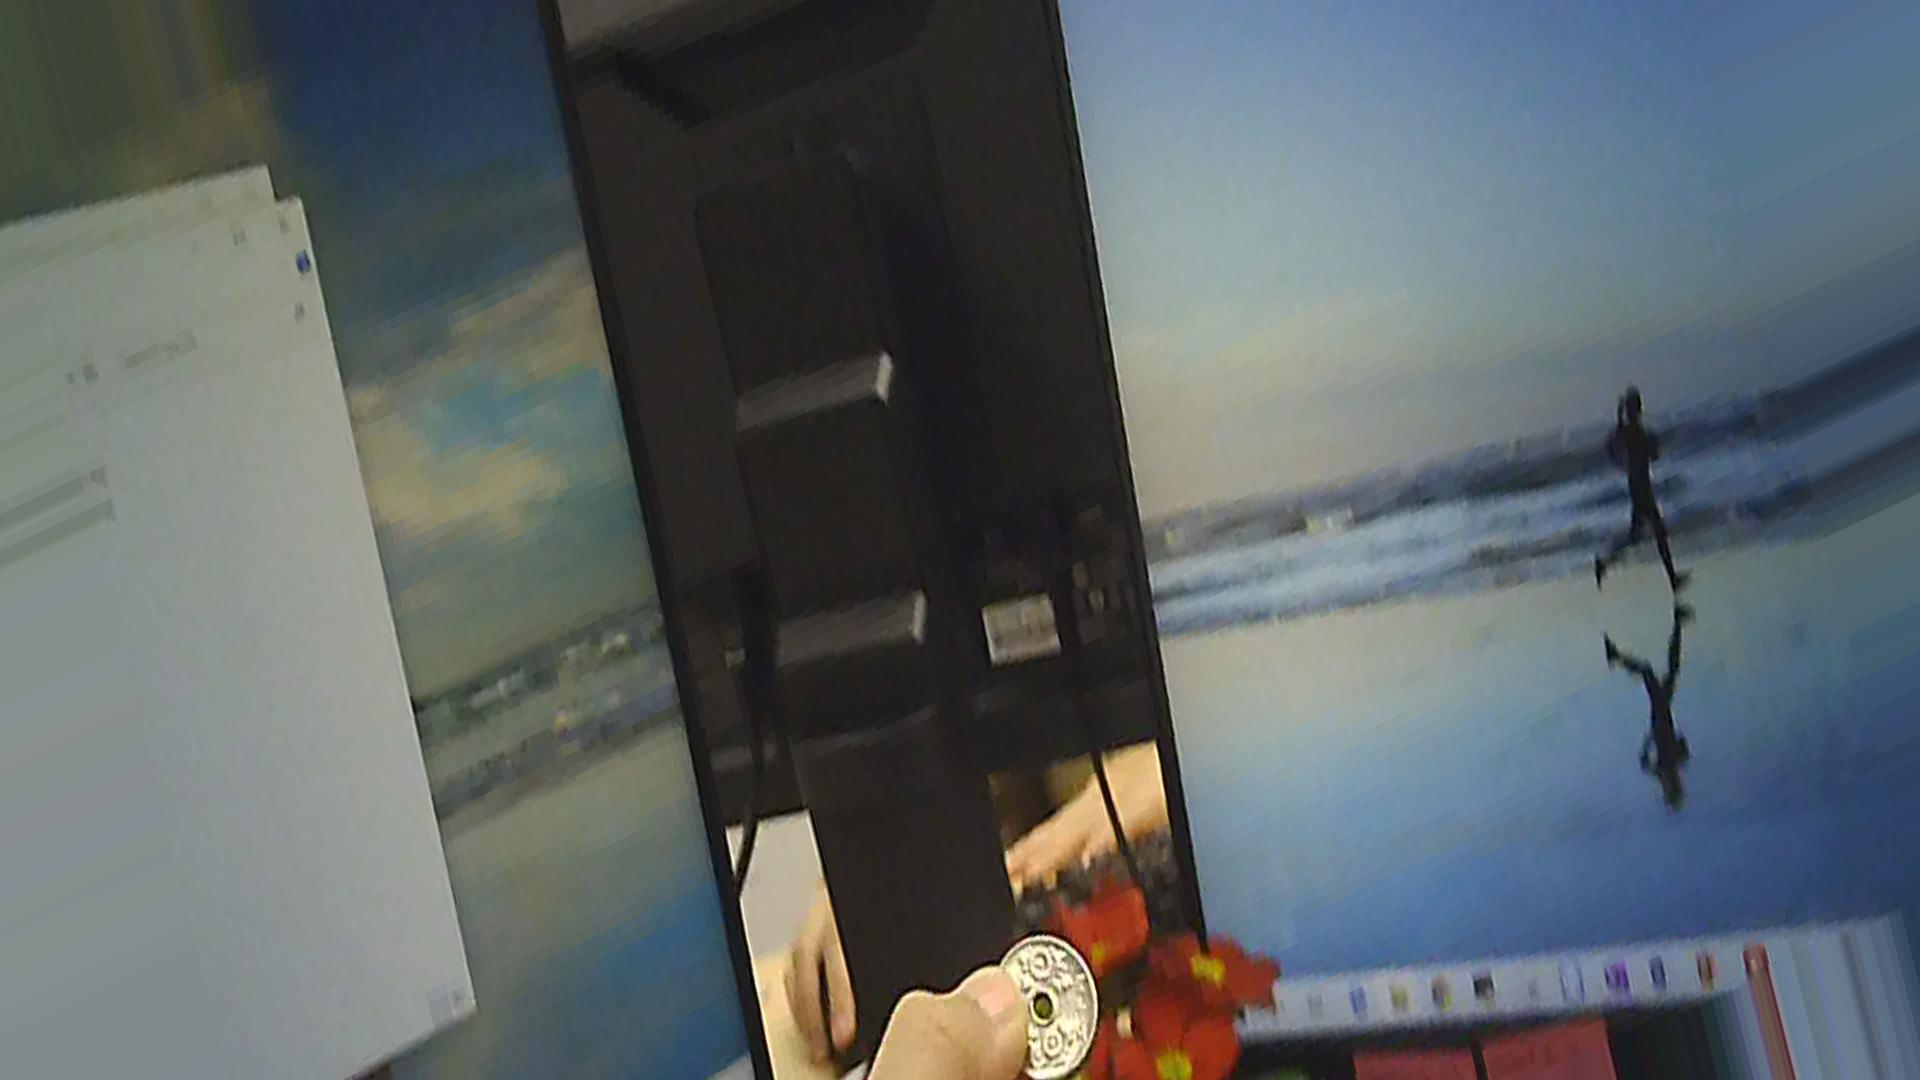50 Yen: (988, 920, 1098, 1079)
